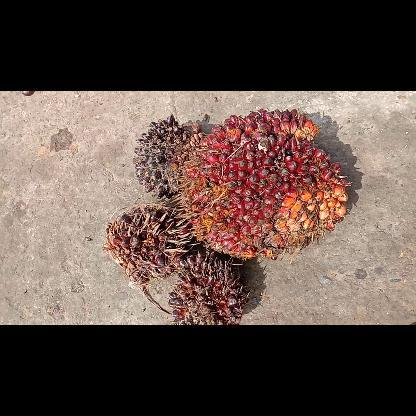TBS abnormal: (101, 204, 193, 288), (131, 112, 203, 200), (166, 252, 250, 324)
TBS masak: (166, 105, 352, 263)
